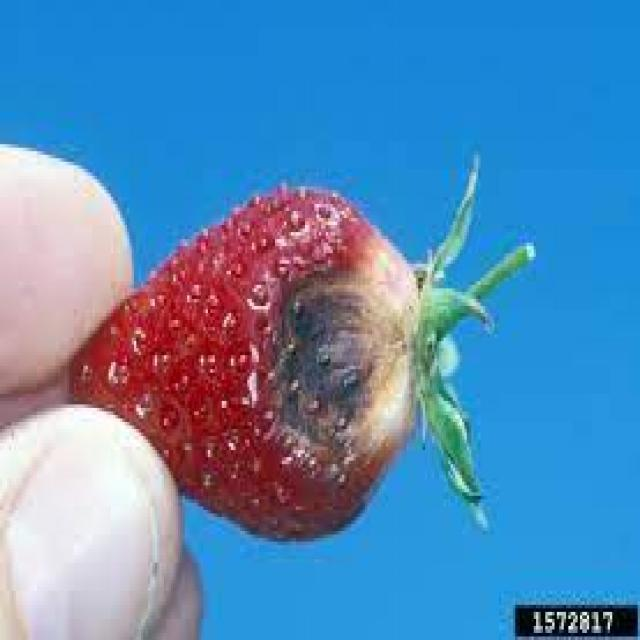Mancha negra Antracnosis: (65, 190, 462, 526)
